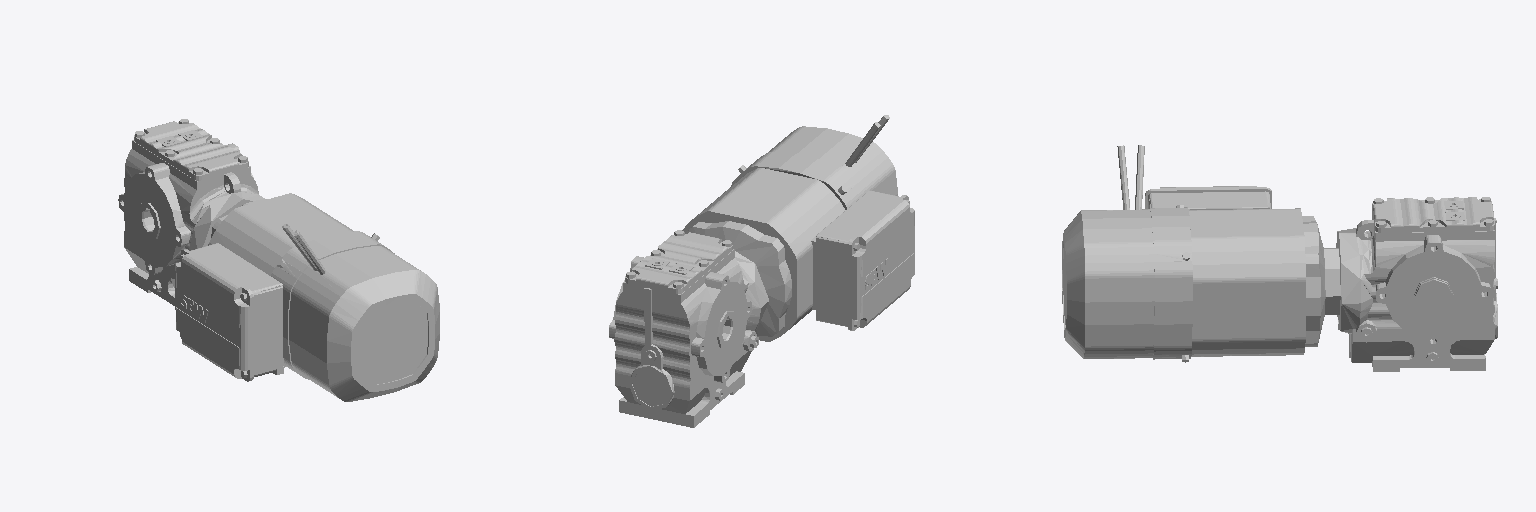
File: sew3h.obj
3 views of the same model, side by side, from view 1: azimuth 30°, elevation 25°; view 2: azimuth 150°, elevation 25°; view 3: azimuth 270°, elevation 25° (orthographic).
Parts seen in each view (by area): view 1: SA47DRS80S4BE1HRvkhvvu4tggstiv0znofwqvgu; view 2: SA47DRS80S4BE1HRvkhvvu4tggstiv0znofwqvgu; view 3: SA47DRS80S4BE1HRvkhvvu4tggstiv0znofwqvgu.
Part boxes in pixels (left/top/right/bottom): SA47DRS80S4BE1HRvkhvvu4tggstiv0znofwqvgu: left=118, top=119, right=439, bottom=401; SA47DRS80S4BE1HRvkhvvu4tggstiv0znofwqvgu: left=609, top=115, right=914, bottom=427; SA47DRS80S4BE1HRvkhvvu4tggstiv0znofwqvgu: left=1062, top=145, right=1497, bottom=371.
Bounding box in the file's own units: 9.26 × 9.38 × 20.09.